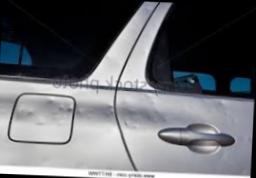Door: (114, 95, 254, 159)
Fender: (0, 86, 115, 159)
